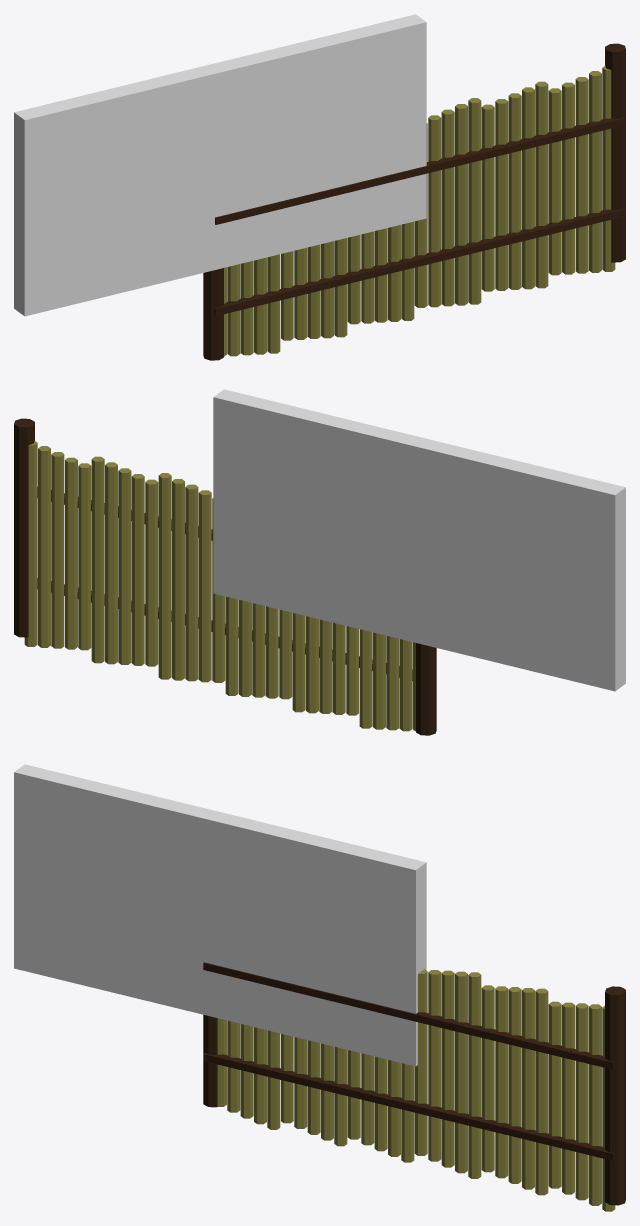
The model's file is BambooFence.fbx.
3 views of the same model, one above another, from view 1: azimuth 30°, elevation 25°; view 2: azimuth 150°, elevation 25°; view 3: azimuth 330°, elevation 25° (orthographic).
Parts seen in each view (by area): view 1: COL_BambooFence_0, BambooFence; view 2: COL_BambooFence_0, BambooFence; view 3: COL_BambooFence_0, BambooFence.
Part boxes in pixels (box(x1,y1,x2,y2)): COL_BambooFence_0: box(14, 14, 426, 316); BambooFence: box(203, 43, 625, 360); COL_BambooFence_0: box(213, 389, 625, 691); BambooFence: box(14, 418, 436, 735); COL_BambooFence_0: box(14, 764, 426, 1066); BambooFence: box(203, 962, 625, 1211).
Bounding box in the file's own units: 4.52 × 2.12 × 0.15.
